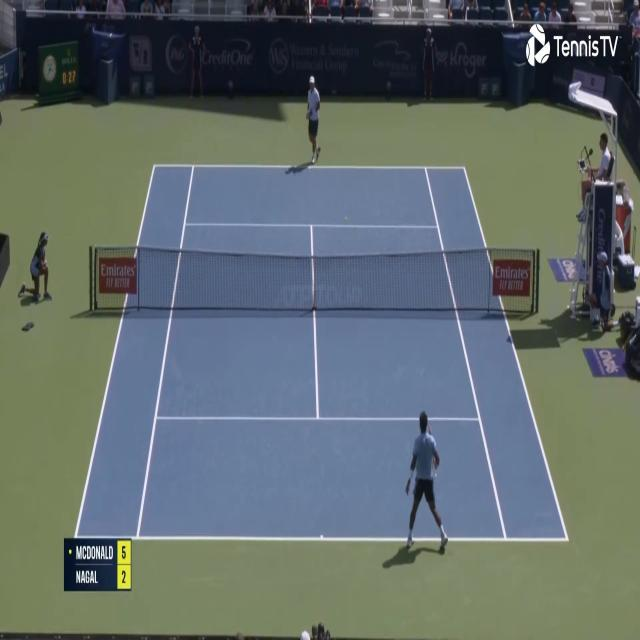tennis-player: (402, 408, 453, 557), (302, 71, 322, 166)
